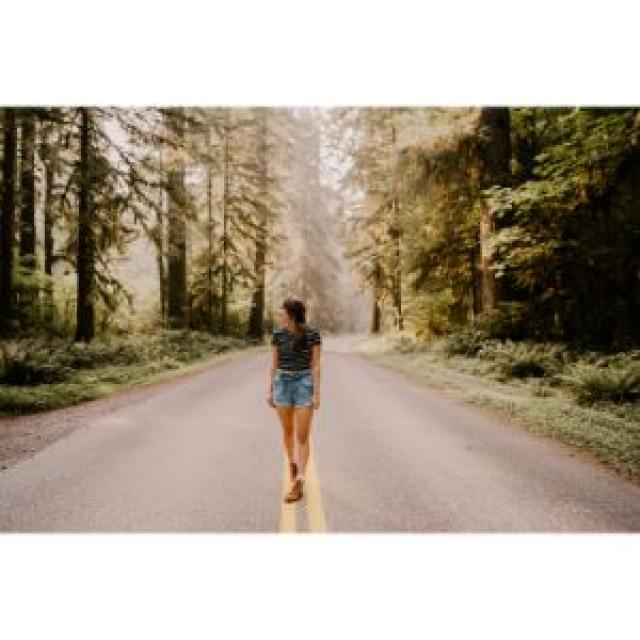nonfall: (256, 290, 344, 508)
